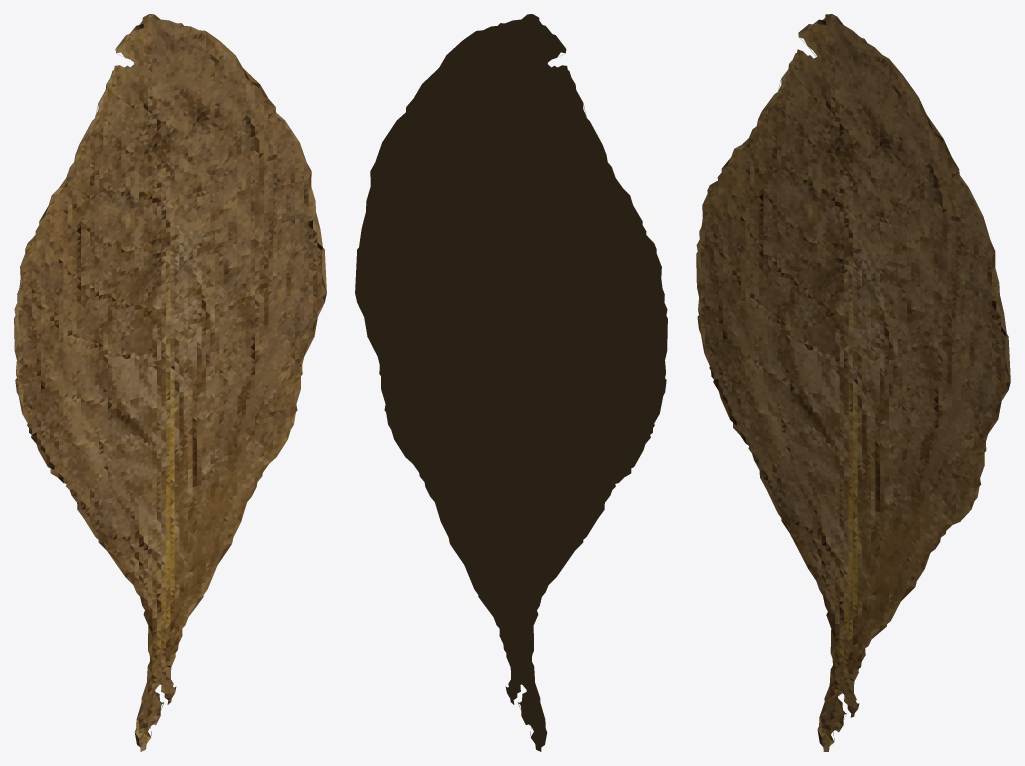
File: 20260828_164142435_iOS.obj
3 renders of one model, left to right at view 1: azimuth 30°, elevation 25°; view 2: azimuth 150°, elevation 25°; view 3: azimuth 330°, elevation 25°, orthographic.
Visible parts, largest first — view 1: 20260828_164142435_iOS; view 2: 20260828_164142435_iOS; view 3: 20260828_164142435_iOS.
Part boxes in pixels (left/top/right/bottom): 20260828_164142435_iOS: left=14, top=14, right=326, bottom=751; 20260828_164142435_iOS: left=355, top=14, right=667, bottom=751; 20260828_164142435_iOS: left=696, top=14, right=1010, bottom=751.
Bounding box in the file's own units: 210 × 473 × 0.3.
